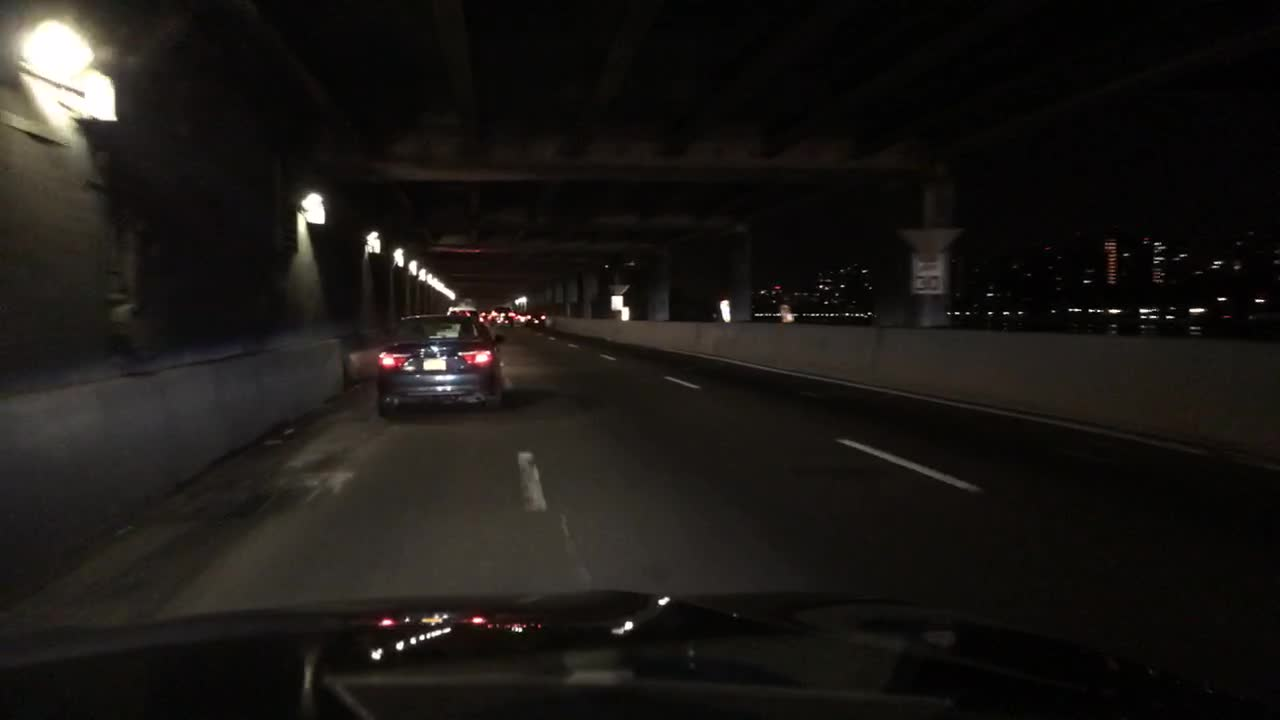car: (373, 312, 506, 416), (486, 309, 511, 327), (448, 305, 477, 320), (530, 311, 550, 329), (513, 312, 530, 325), (477, 311, 488, 322)
traffic sign: (898, 223, 963, 256), (909, 254, 949, 297), (607, 284, 629, 295), (608, 295, 622, 311), (618, 306, 627, 320)
